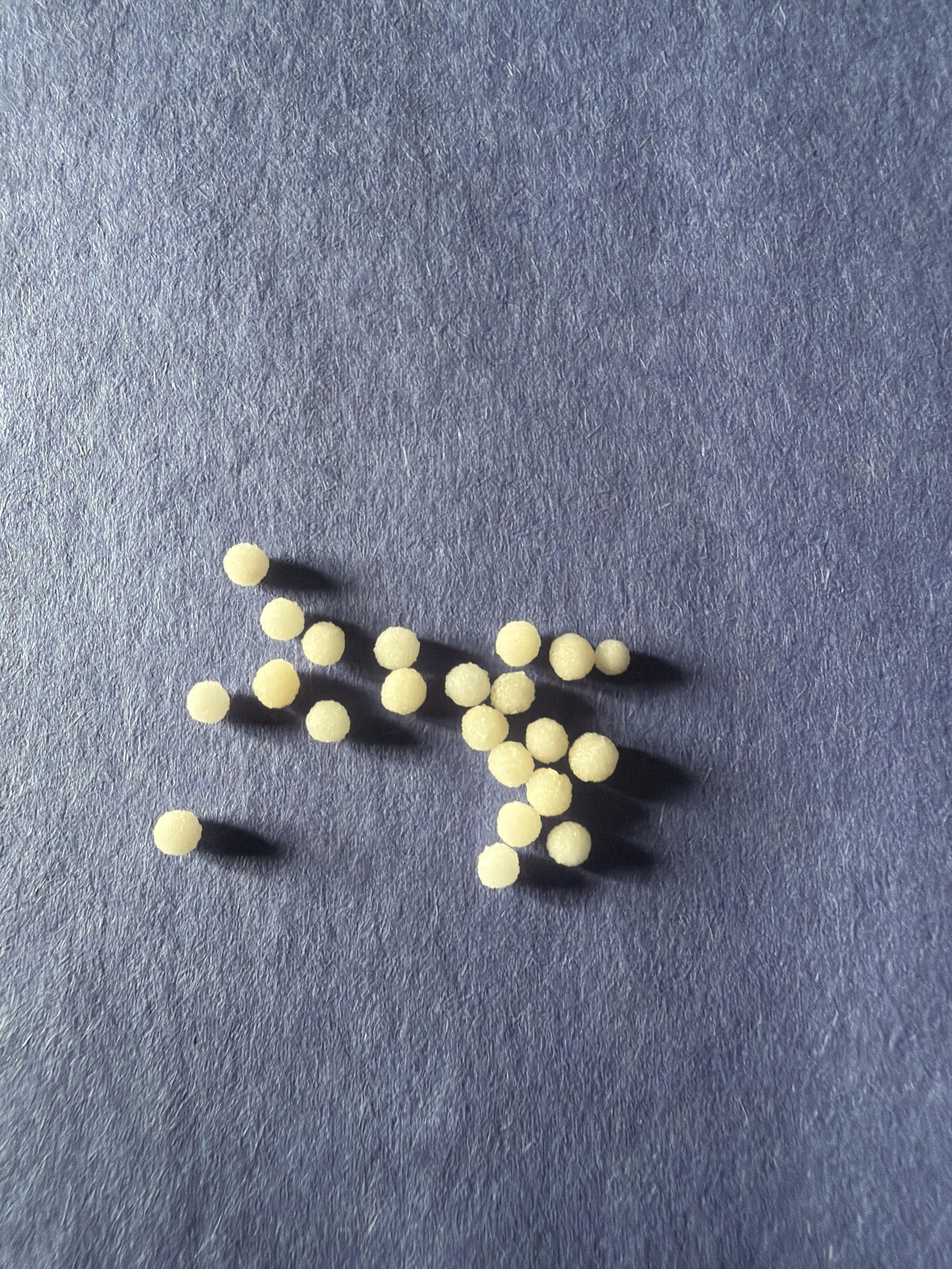pill: (568, 732, 619, 782), (252, 659, 300, 709), (526, 767, 572, 816), (153, 810, 201, 856), (381, 667, 427, 715), (549, 633, 595, 681), (462, 705, 509, 751), (488, 741, 534, 787), (496, 621, 541, 667), (497, 801, 541, 848), (445, 663, 490, 708), (546, 821, 591, 866), (525, 718, 569, 763), (301, 621, 345, 666), (223, 543, 269, 586), (492, 670, 535, 715), (260, 598, 304, 641), (186, 681, 230, 724), (374, 628, 419, 670), (305, 700, 350, 742), (477, 843, 519, 888), (595, 639, 630, 675)
